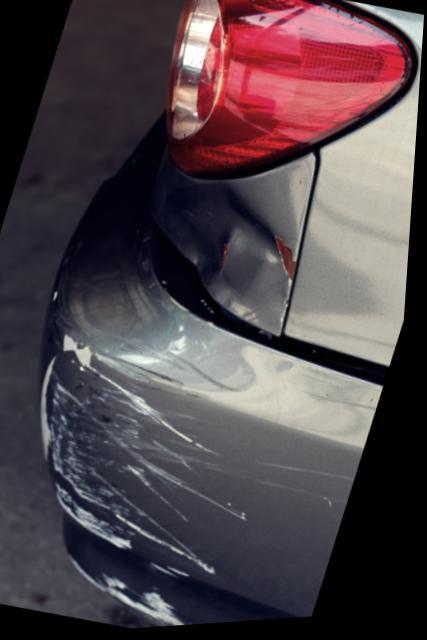dent: (162, 170, 284, 336)
scratch: (43, 324, 363, 629)
